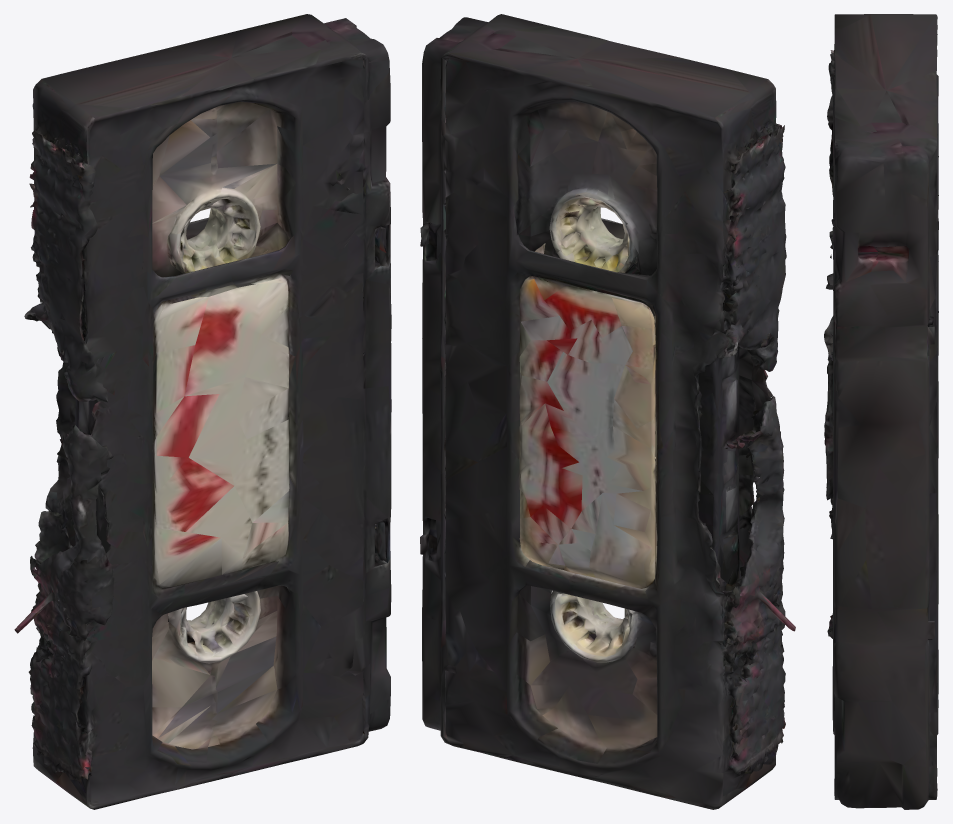
Rendered from vhs-tape-grimy.glb.
The picture shows the model from 3 angles, left to right: view 1: azimuth 30°, elevation 25°; view 2: azimuth 150°, elevation 25°; view 3: azimuth 270°, elevation 25°; orthographic projection. The views are drawn at different scales.
Visible parts, largest first — view 1: Mesh_0; view 2: Mesh_0; view 3: Mesh_0.
Boxes of the visible parts, x1=… form: Mesh_0: x1=14, y1=14, x2=391, y2=809; Mesh_0: x1=420, y1=14, x2=795, y2=809; Mesh_0: x1=824, y1=14, x2=938, y2=809.
Bounding box in the file's own units: 1.01 × 1.9 × 0.2997.
1 material, 1 textured.
